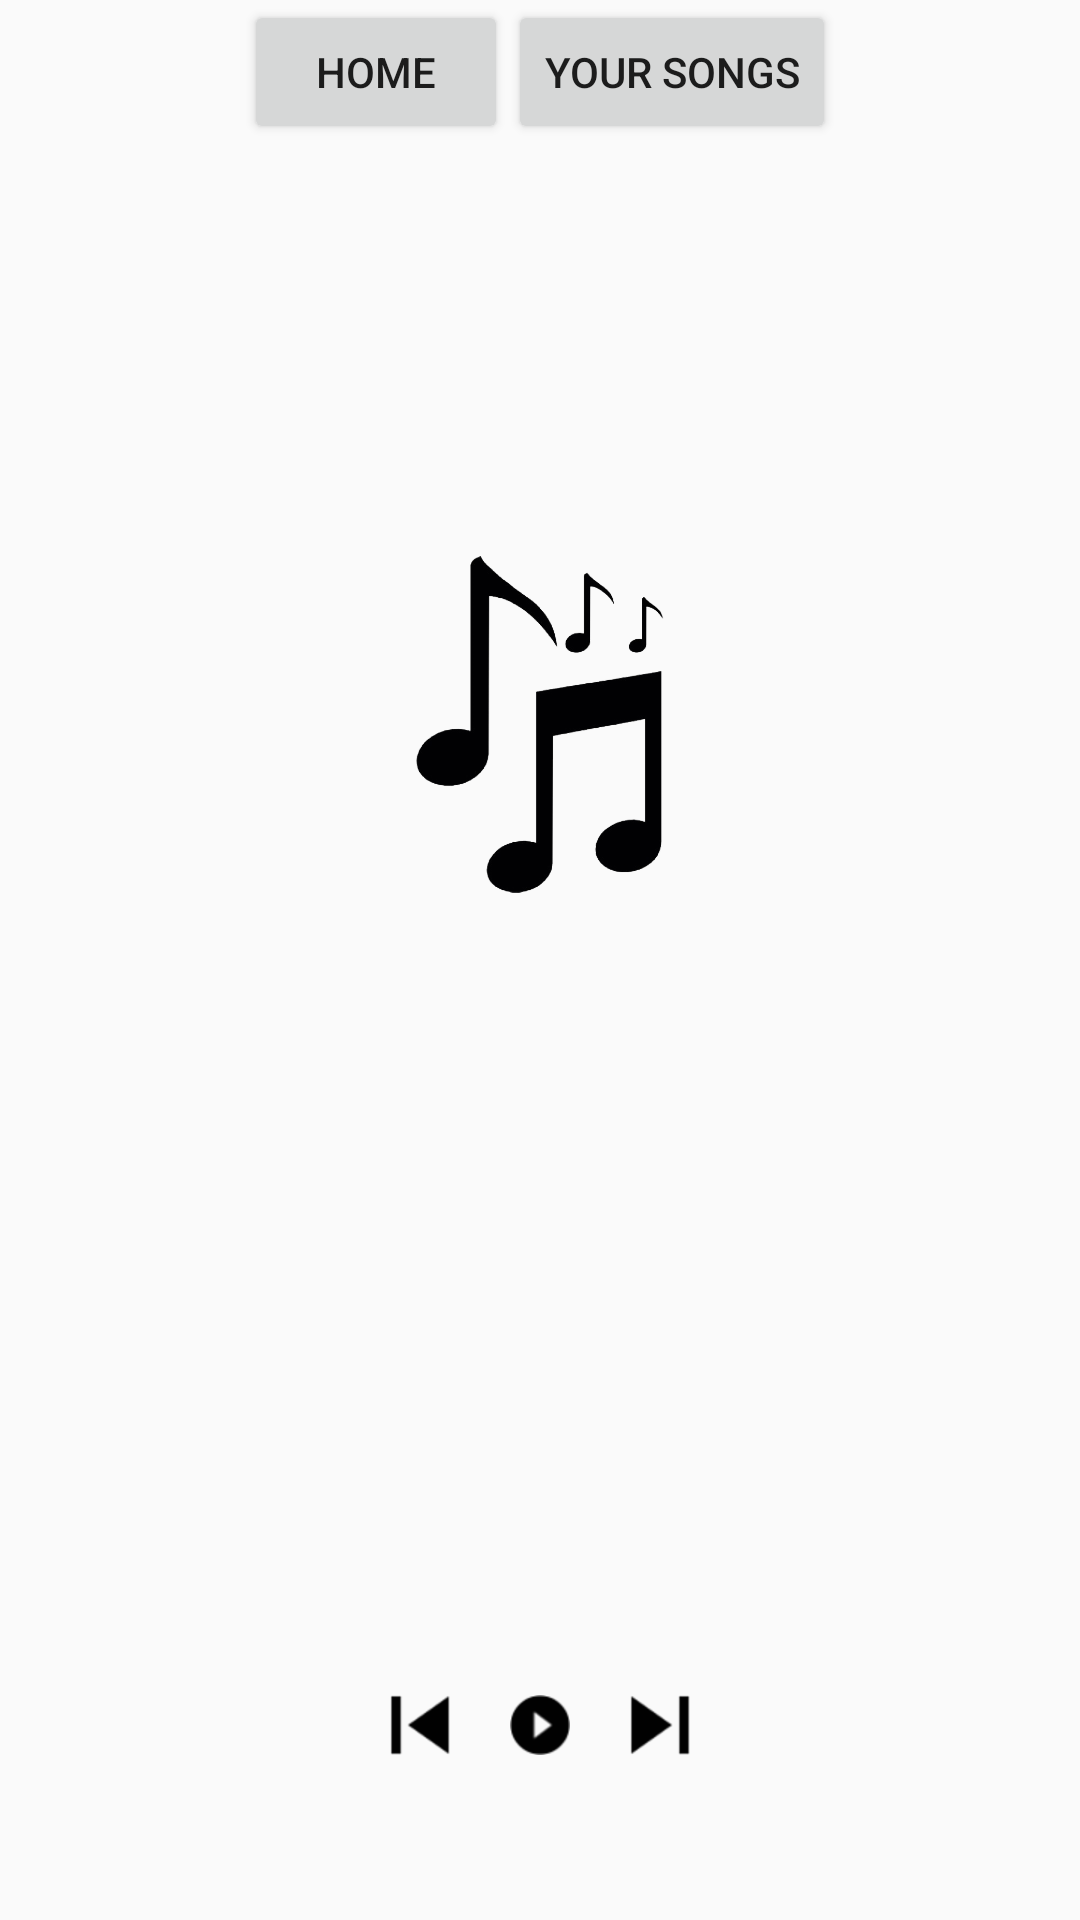

Icon click points for this 1080x1920 phone screenshot, format (x,y):
play circle: (540,1725)
skip next: (660,1725)
skip previous: (420,1725)
